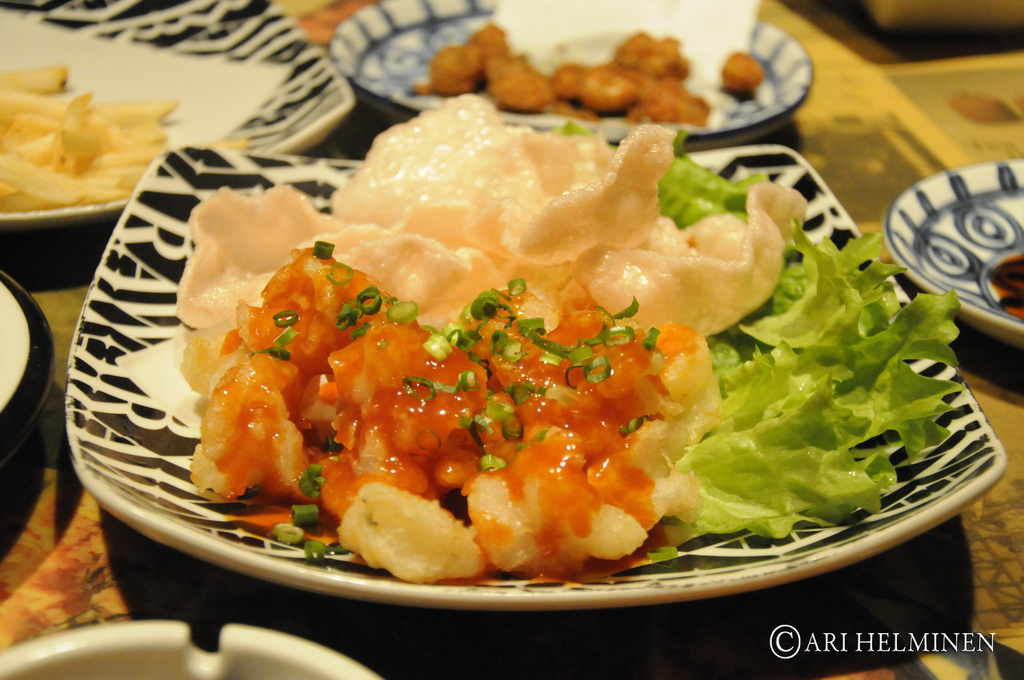French fries: (0, 72, 204, 204)
